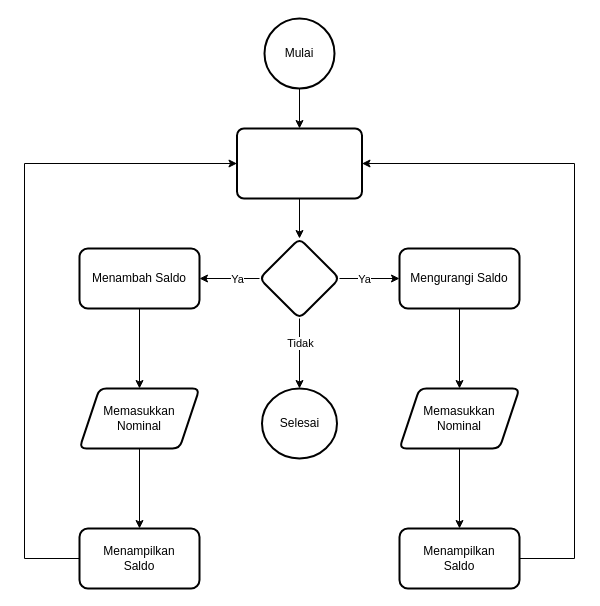
This 600x606 diagram has some shape labels left out. The centre of each missing label's shape, as x and y in pixels:
"Memilih Menu" goes at (299,278).
"Menampilkan Menu" goes at (299,163).
